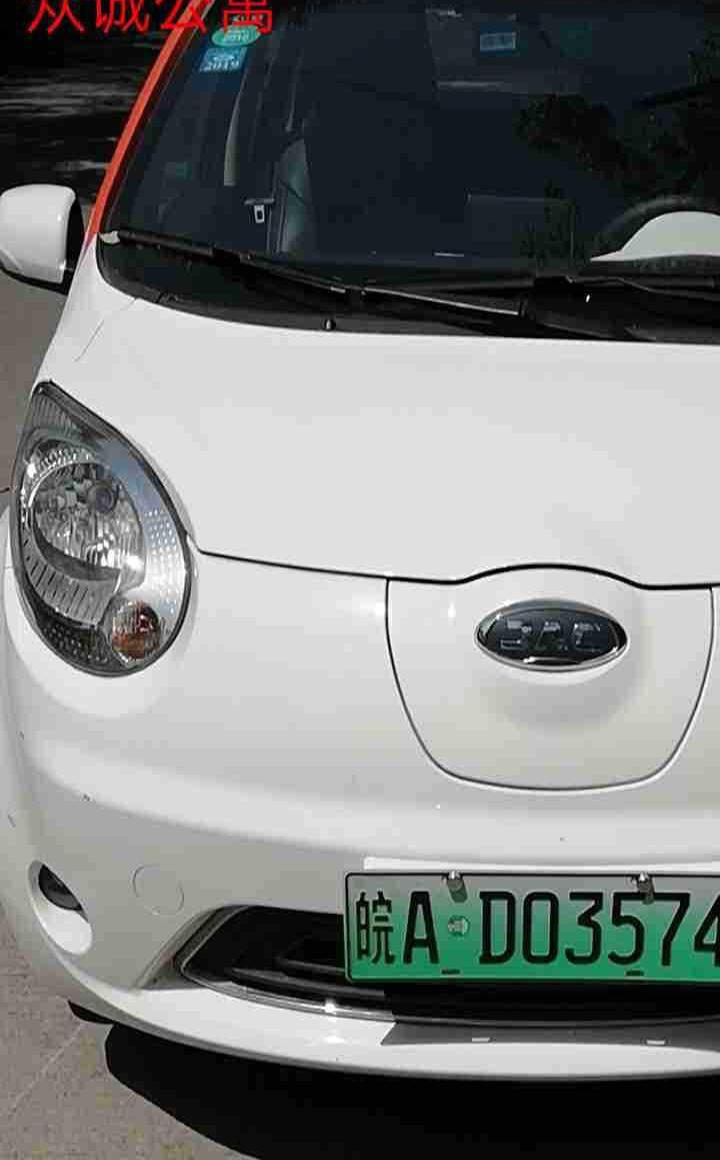car: (364, 873, 720, 989)
